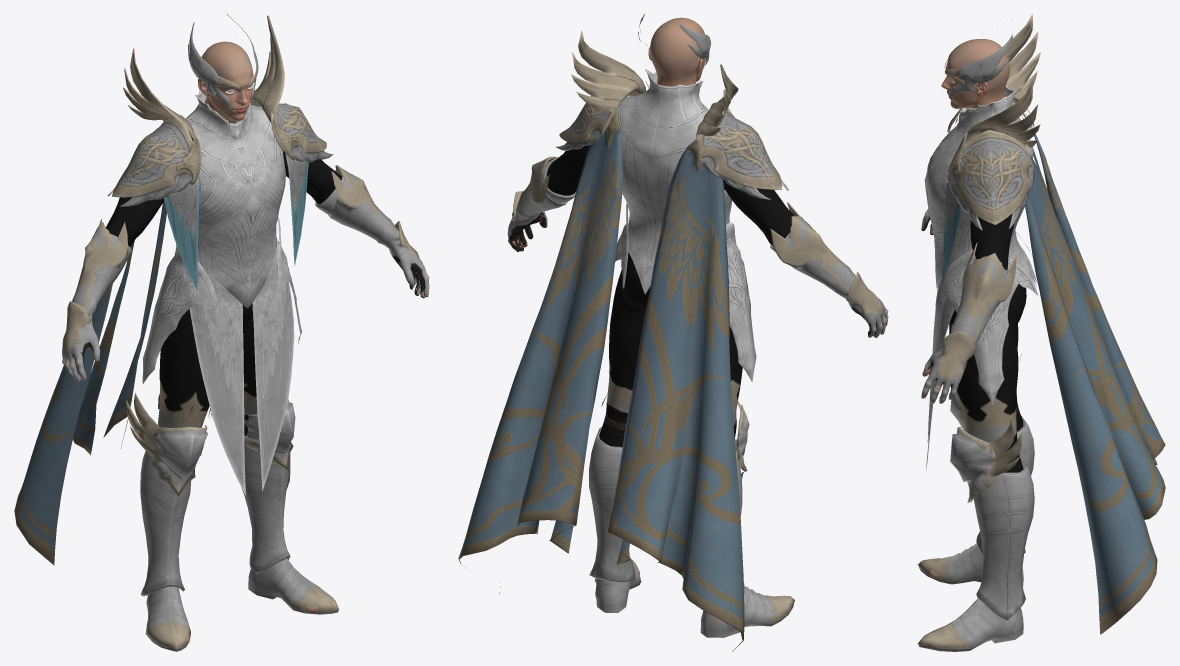
3 renders of one model, left to right at view 1: azimuth 30°, elevation 25°; view 2: azimuth 150°, elevation 25°; view 3: azimuth 270°, elevation 25°, orthographic. The views are drawn at different scales.
Parts seen in each view (by area): view 1: GM_0148_T03_Body, GM_0148_T03_Boots, GM_0148_T03_Shoulder, GM_0148_T03_Cape, GM_0148_T03_Glove, GM_0148_T03_Pants, GM_BaseHead, GM_0148_T03_Helmet; view 2: GM_0148_T03_Cape, GM_0148_T03_Body, GM_0148_T03_Shoulder, GM_0148_T03_Boots, GM_0148_T03_Glove, GM_0148_T03_Pants, GM_BaseHead; view 3: GM_0148_T03_Cape, GM_0148_T03_Boots, GM_0148_T03_Body, GM_0148_T03_Shoulder, GM_0148_T03_Glove, GM_0148_T03_Pants, GM_BaseHead, GM_0148_T03_Helmet.
Part boxes in pixels (x1,y1,x2,y2): GM_0148_T03_Body: (68,90,427,495); GM_0148_T03_Boots: (126,393,339,651); GM_0148_T03_Shoulder: (107,15,333,290); GM_0148_T03_Cape: (14,202,290,565); GM_0148_T03_Glove: (62,165,429,382); GM_0148_T03_Pants: (157,303,317,642); GM_BaseHead: (198,41,253,123); GM_0148_T03_Helmet: (188,14,258,110); GM_0148_T03_Cape: (458,112,744,651); GM_0148_T03_Body: (512,69,886,382); GM_0148_T03_Shoulder: (555,30,788,199); GM_0148_T03_Boots: (589,395,794,637); GM_0148_T03_Glove: (507,156,888,338); GM_0148_T03_Pants: (599,252,742,627); GM_BaseHead: (648,17,705,86); GM_0148_T03_Cape: (1022,113,1165,634); GM_0148_T03_Boots: (917,353,1034,651); GM_0148_T03_Body: (922,84,1038,472); GM_0148_T03_Shoulder: (942,14,1040,284); GM_0148_T03_Glove: (921,209,1016,404); GM_0148_T03_Pants: (929,284,1026,622); GM_BaseHead: (941,39,1010,108); GM_0148_T03_Helmet: (944,18,1012,98).
Size of the model in its own units: 1.25 by 1.94 by 0.747.
Materials: 10 (9 with a texture image).
